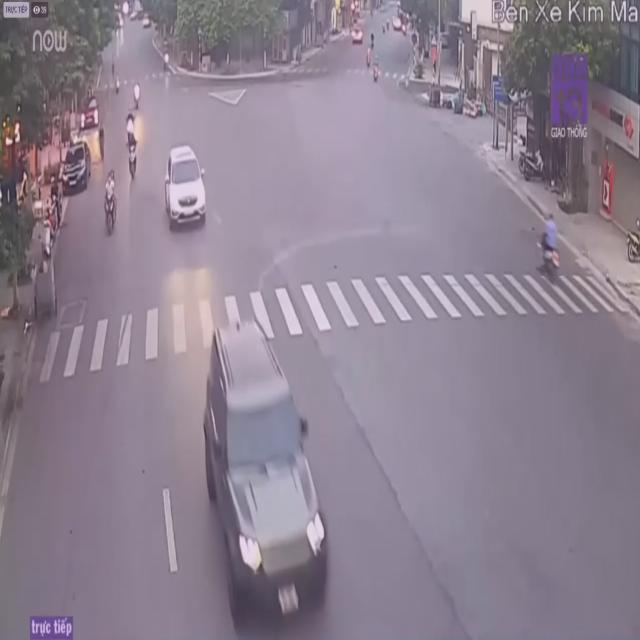car: (204, 328, 328, 630), (165, 142, 211, 233)
motorbike: (538, 214, 562, 283), (101, 169, 119, 234), (125, 115, 142, 178)
